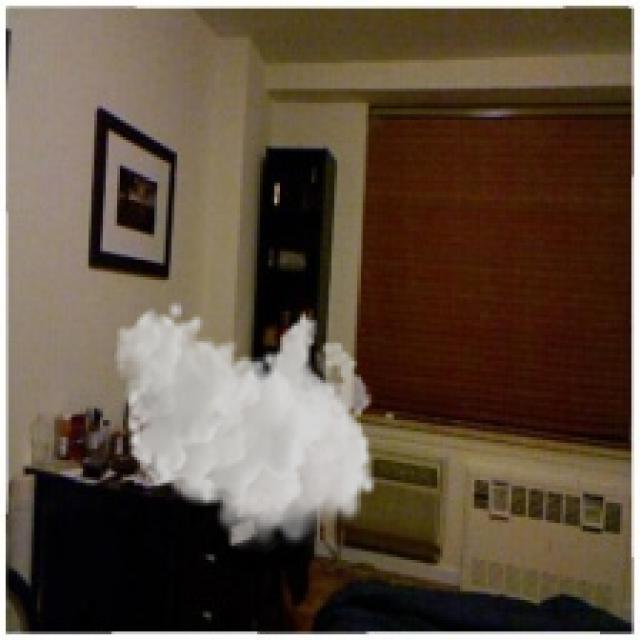smoke: (114, 300, 377, 554)
